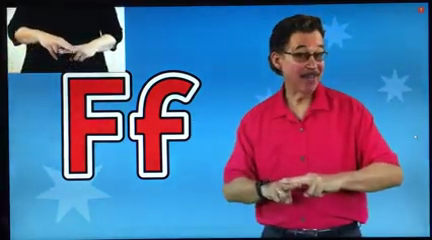F: (263, 169, 333, 208), (39, 35, 100, 65)
